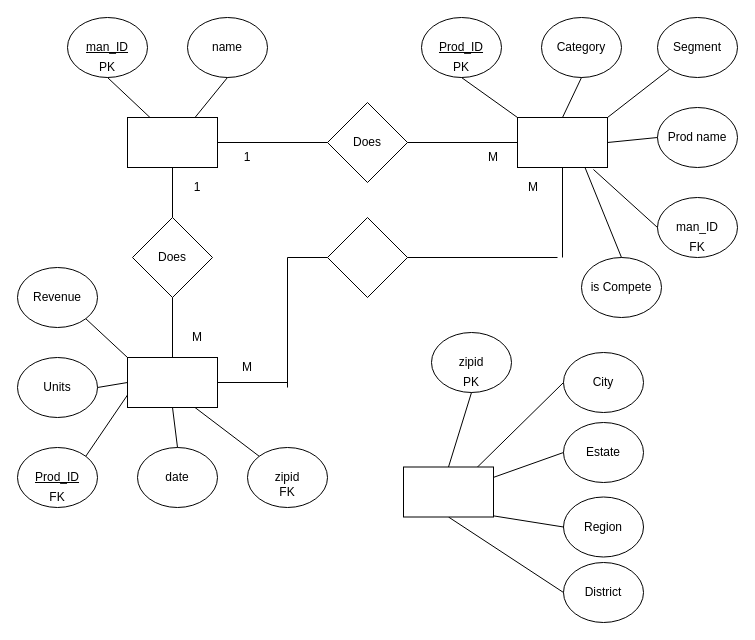
Some shapes in this 755 by 640 pixel diagram are drawn without their labels. The box of each missing label's shape, as (x1, y1, x2, y2) in pixels:
Has: (326, 216, 408, 298)
Manufacturer: (126, 116, 218, 168)
Product: (516, 116, 608, 168)
Sales: (126, 356, 218, 408)
ZIP: (402, 466, 494, 517)
